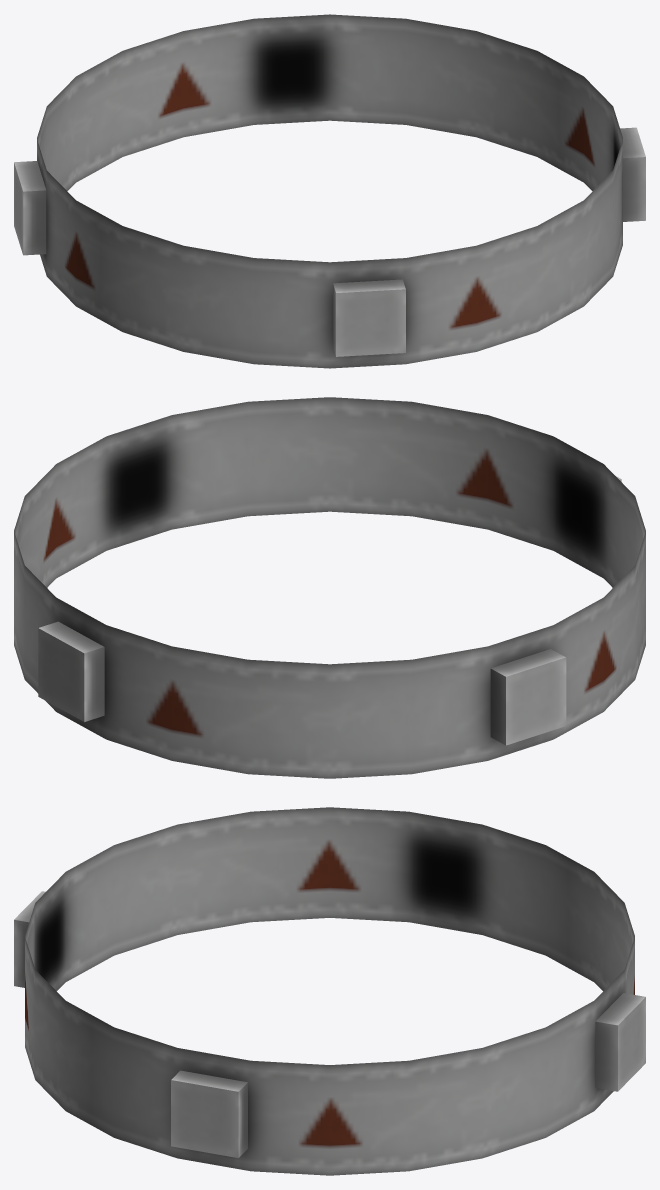
Rendered from arrow_decoupler_s0_1.obj.
The picture shows the model from 3 angles, top to bottom: view 1: azimuth 30°, elevation 25°; view 2: azimuth 150°, elevation 25°; view 3: azimuth 270°, elevation 25°; orthographic projection. The views are drawn at different scales.
Visible parts, largest first — view 1: mesh1_mesh1_auv, mesh1_mesh1_auv2; view 2: mesh1_mesh1_auv, mesh1_mesh1_auv2; view 3: mesh1_mesh1_auv, mesh1_mesh1_auv2.
Part boxes in pixels (left/top/right/bottom): mesh1_mesh1_auv: left=37, top=14, right=622, bottom=368; mesh1_mesh1_auv2: left=14, top=127, right=645, bottom=356; mesh1_mesh1_auv: left=14, top=397, right=645, bottom=778; mesh1_mesh1_auv2: left=38, top=476, right=621, bottom=745; mesh1_mesh1_auv: left=25, top=807, right=634, bottom=1175; mesh1_mesh1_auv2: left=14, top=891, right=645, bottom=1157.
Bounding box in the file's own units: 0.6474 × 0.125 × 0.6474.
2 materials, 2 textured.
